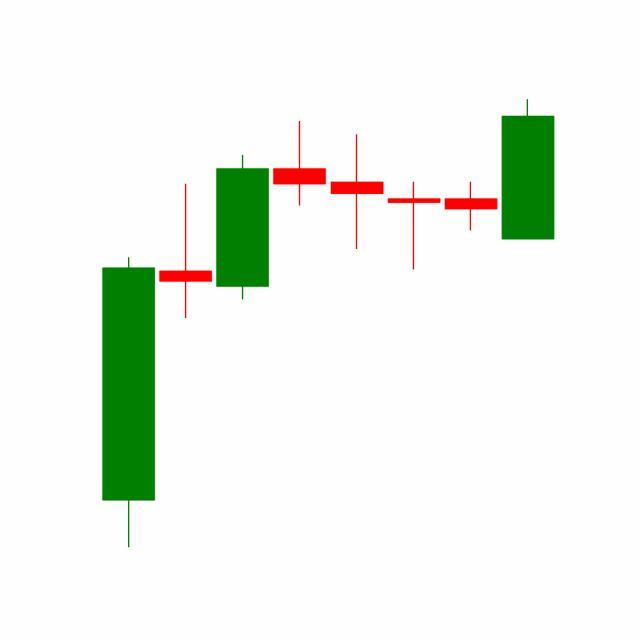Three Line Strike: (326, 100, 555, 274)
